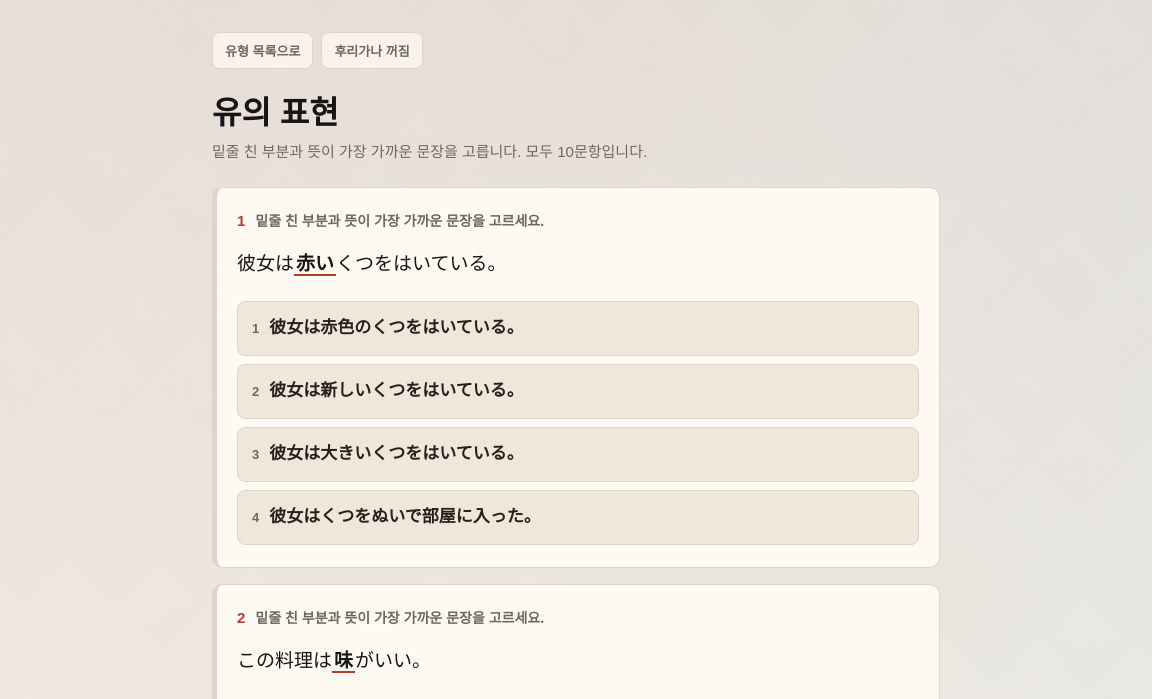
Test: 실전 연습 화면 (S3, AC-8) › 후리가나 버튼을 누르면 문장에 읽기가 붙는다 (JN4-032)
The width and height of the screenshot is (1152, 699).
Click the button "후리가나 꺼짐" at (372, 50), box [321,32,423,69]
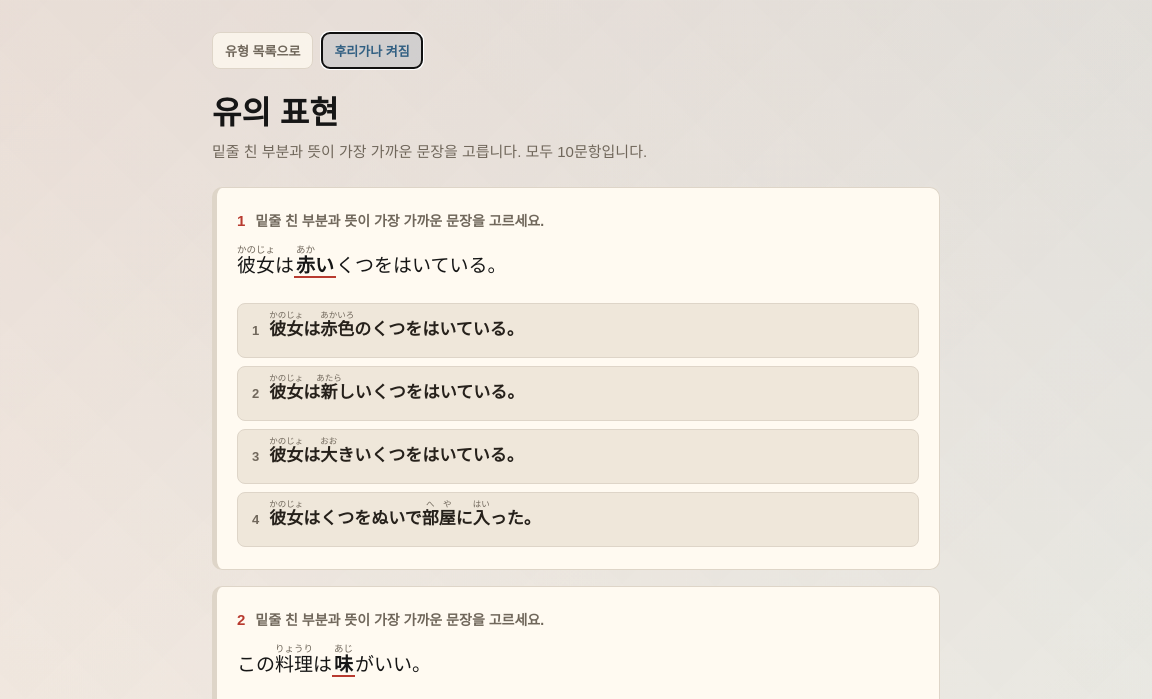
Check: the 1st element showing "彼女 かのじょ" is shown, box [237,254,275,276]
